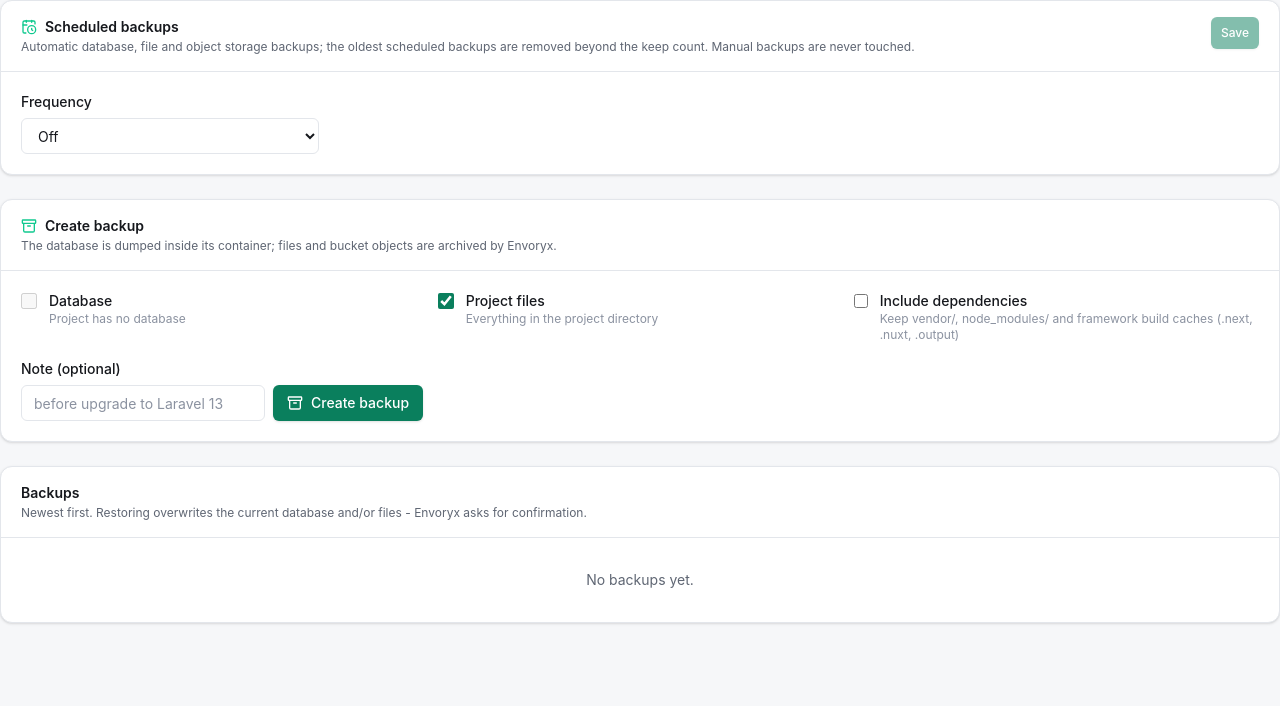
it: BackupsTab › saves a weekly backup schedule
Select "Weekly" in the dropdown labelled "Frequency" at (170, 136), box [21, 118, 318, 154]
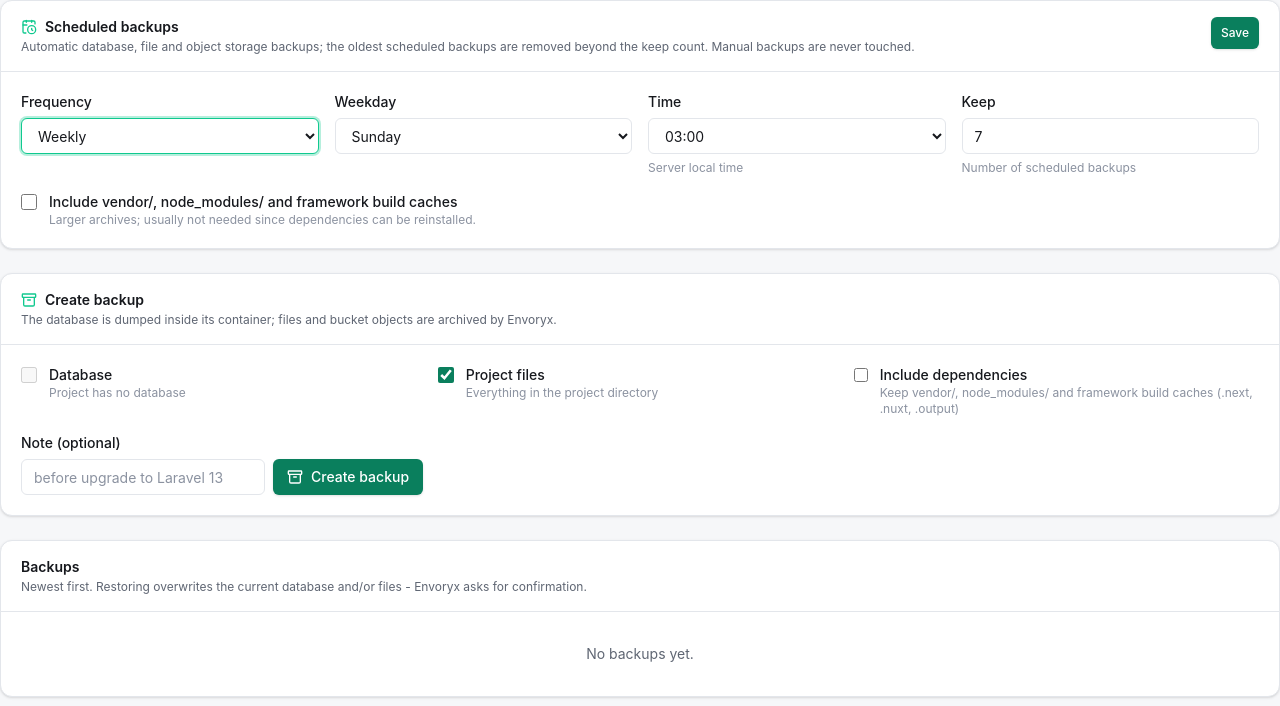
Select "Saturday" in the dropdown labelled "Weekday" at (483, 136), box [334, 118, 632, 154]
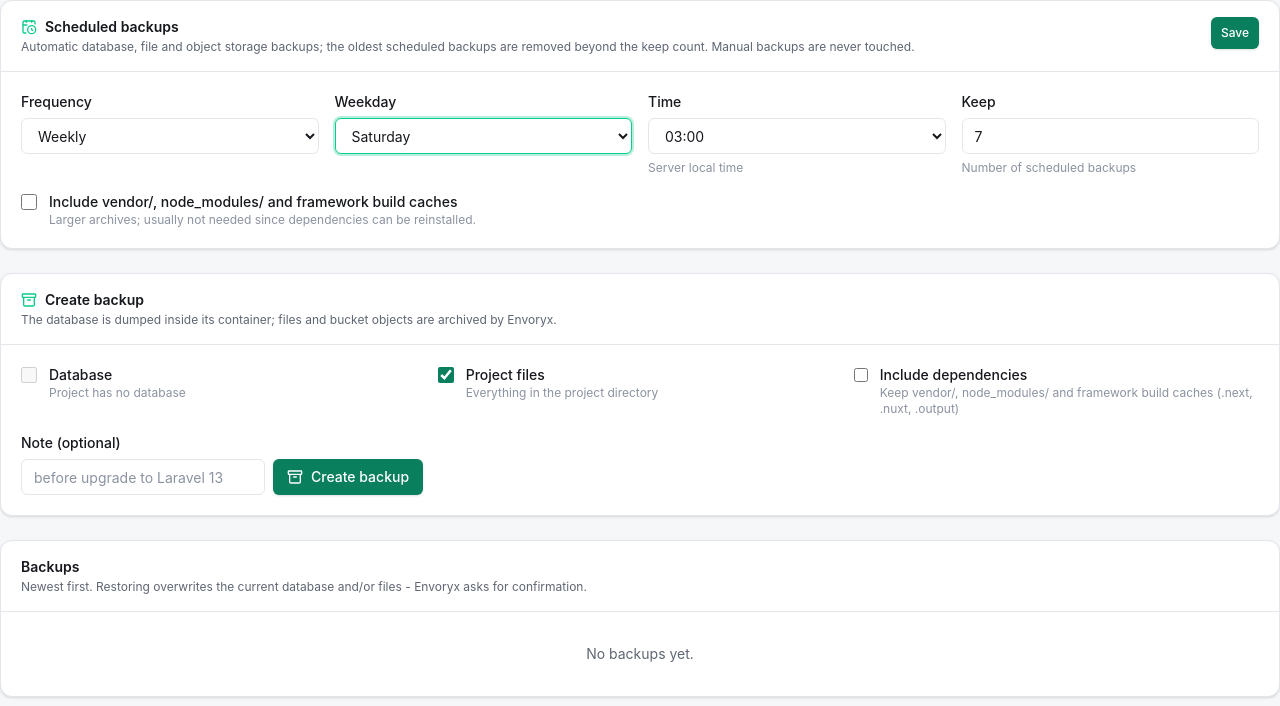
Select "02:00" in the dropdown labelled "Time" at (797, 136), box [648, 118, 946, 154]
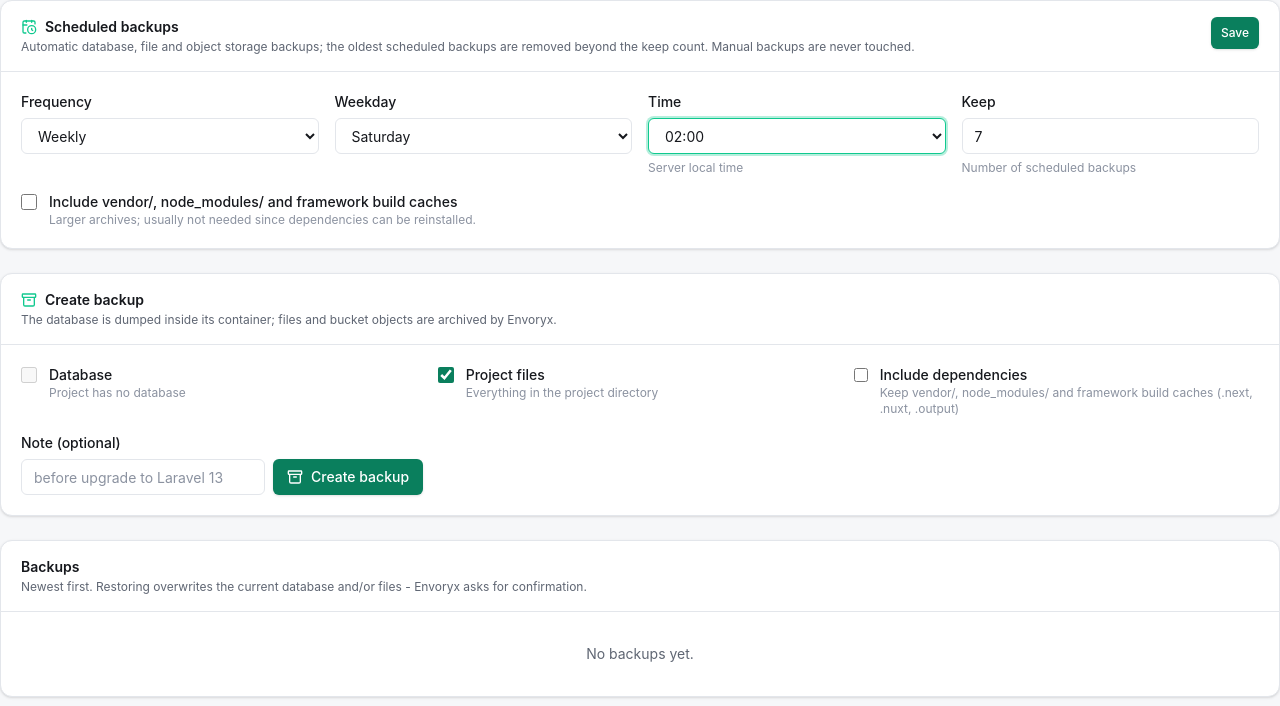
Replace the text in the number field labelled "Keep" with "4" at (1110, 136), box [962, 118, 1259, 154]
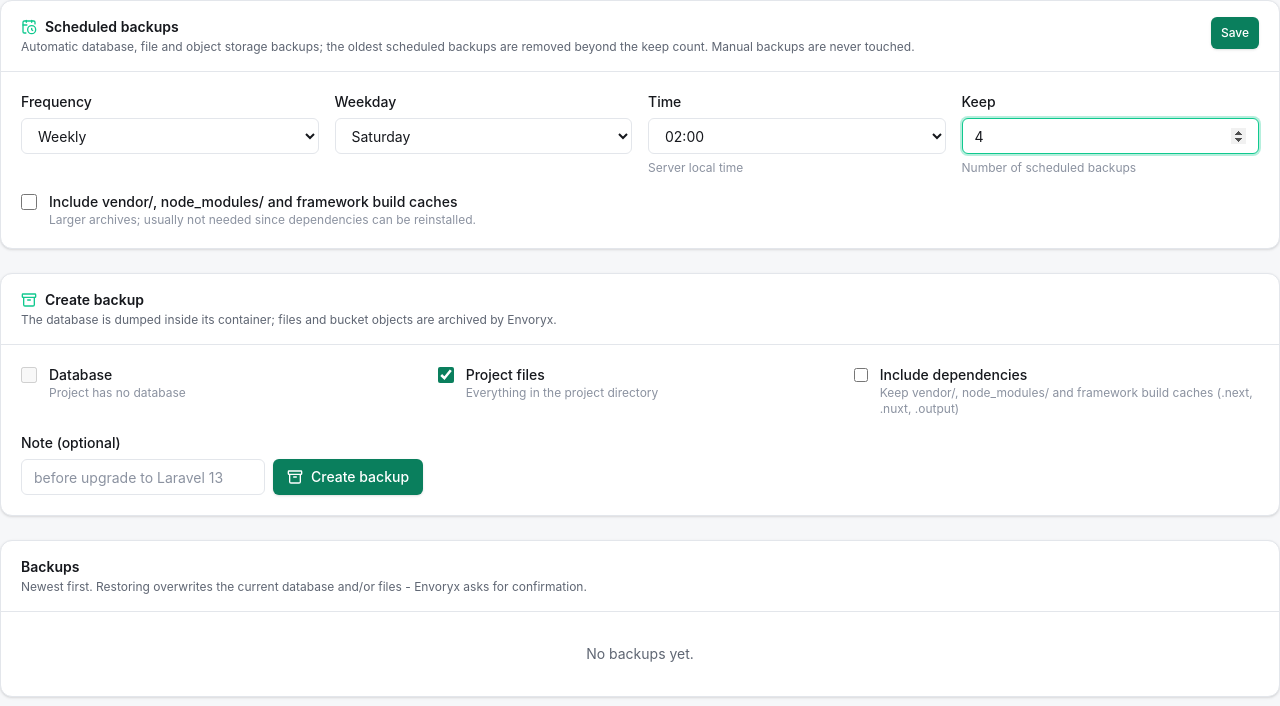
Click the button "Save".
click(1235, 33)  # box [1211, 17, 1259, 49]
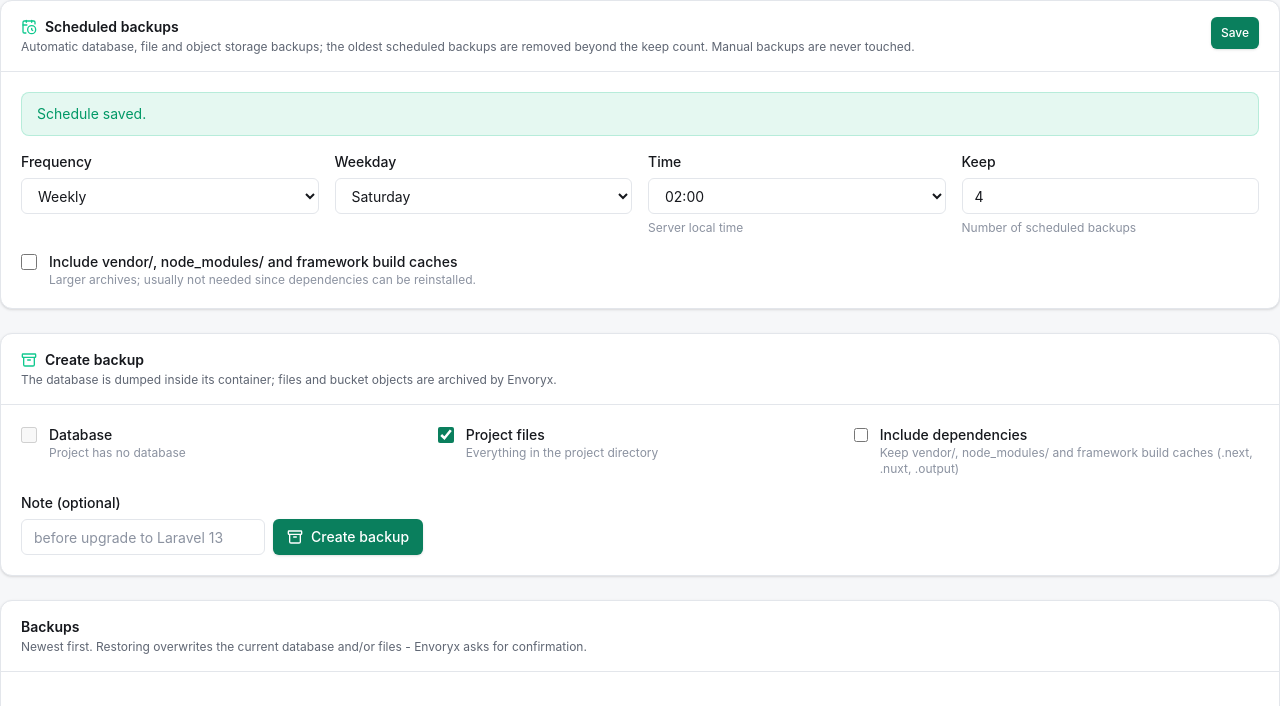
Result: the text "Schedule saved." is shown at [37, 105, 146, 122]
